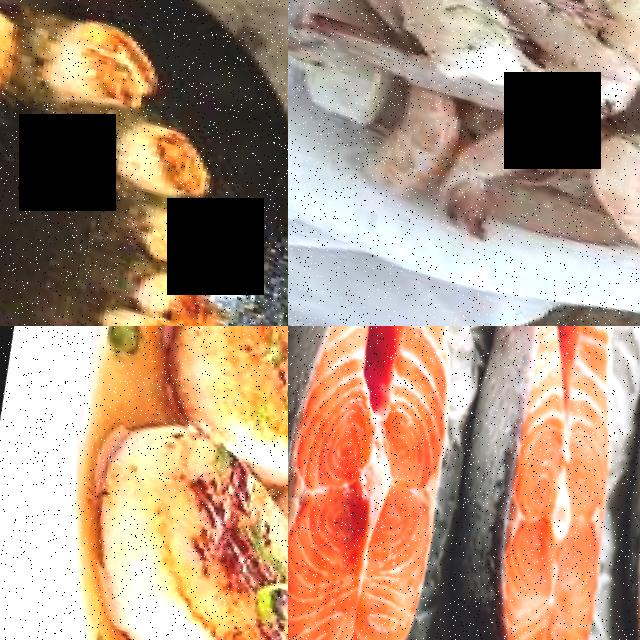salmon: (383, 326, 640, 640), (288, 326, 521, 640), (556, 326, 640, 640)
sea scallops: (60, 415, 288, 640), (148, 326, 288, 478), (39, 4, 170, 115), (103, 107, 217, 199), (129, 264, 219, 326), (103, 304, 192, 326)
shrimp: (563, 111, 640, 310), (366, 0, 531, 86), (491, 0, 640, 91)
